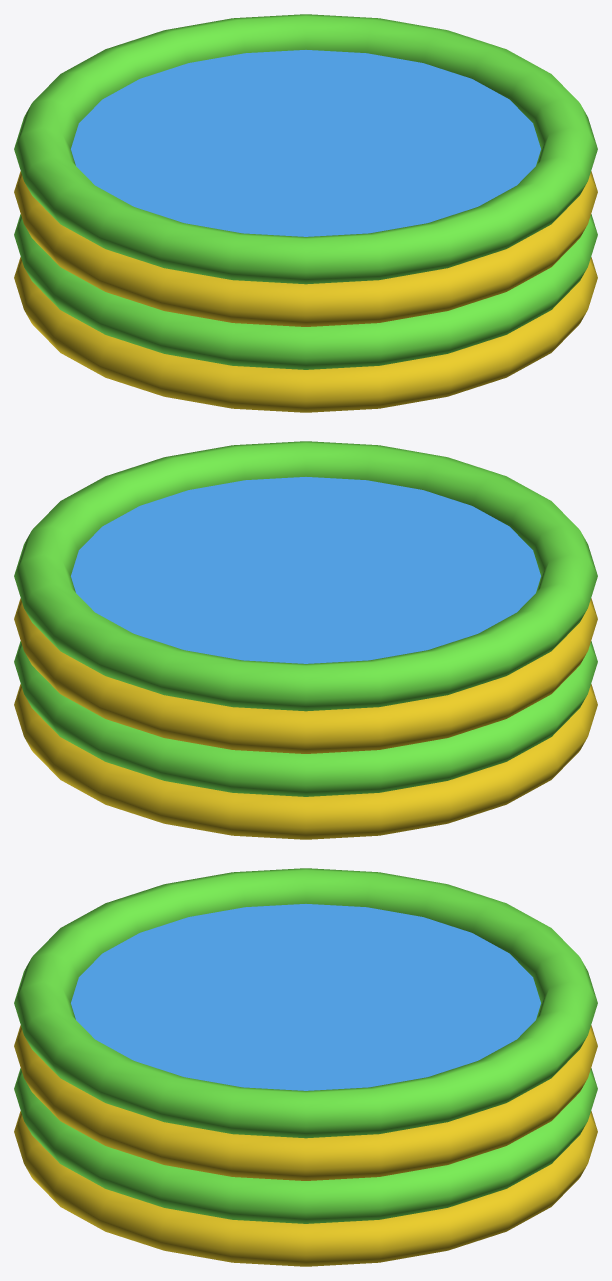
The model's file is Pool.fbx.
The picture shows the model from 3 angles, top to bottom: view 1: azimuth 30°, elevation 25°; view 2: azimuth 150°, elevation 25°; view 3: azimuth 270°, elevation 25°; orthographic projection.
Visible parts, largest first — view 1: Pool; view 2: Pool; view 3: Pool.
Boxes of the visible parts, <box> form: Pool: <box>14,14,597,412</box>; Pool: <box>14,441,597,839</box>; Pool: <box>14,868,597,1266</box>.
Bounding box in the file's own units: 1.85 × 0.6 × 1.85.
